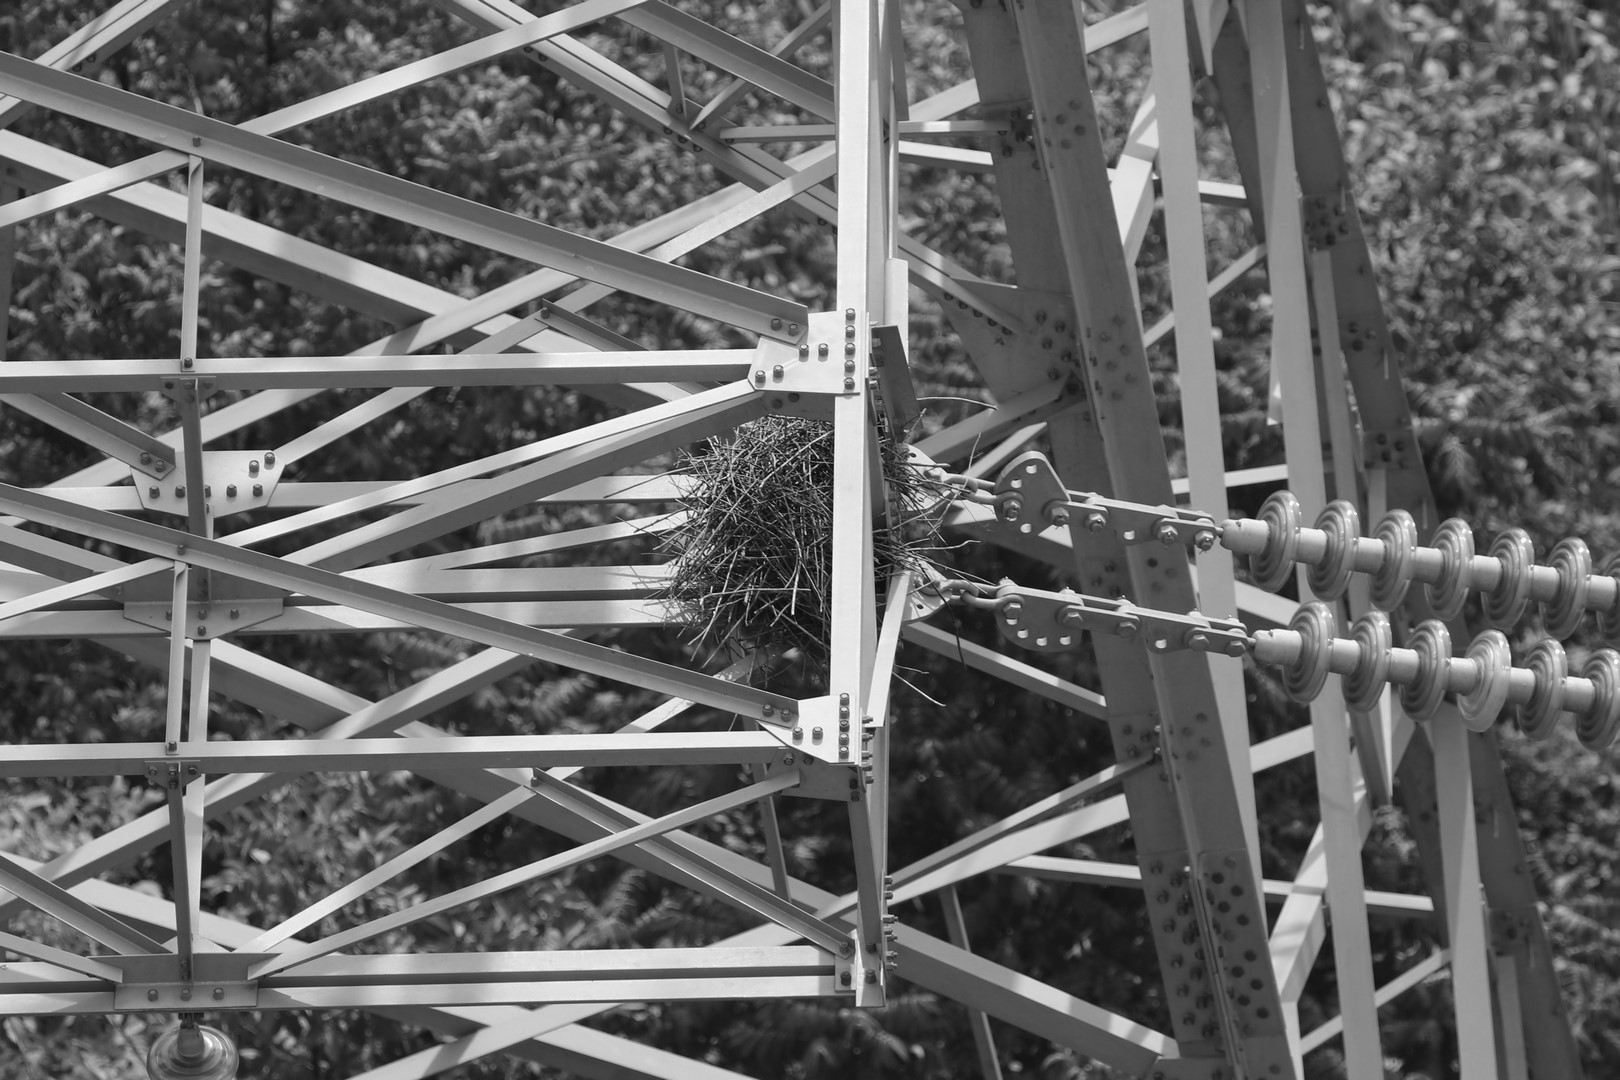niaowo: (633, 381, 947, 680)
